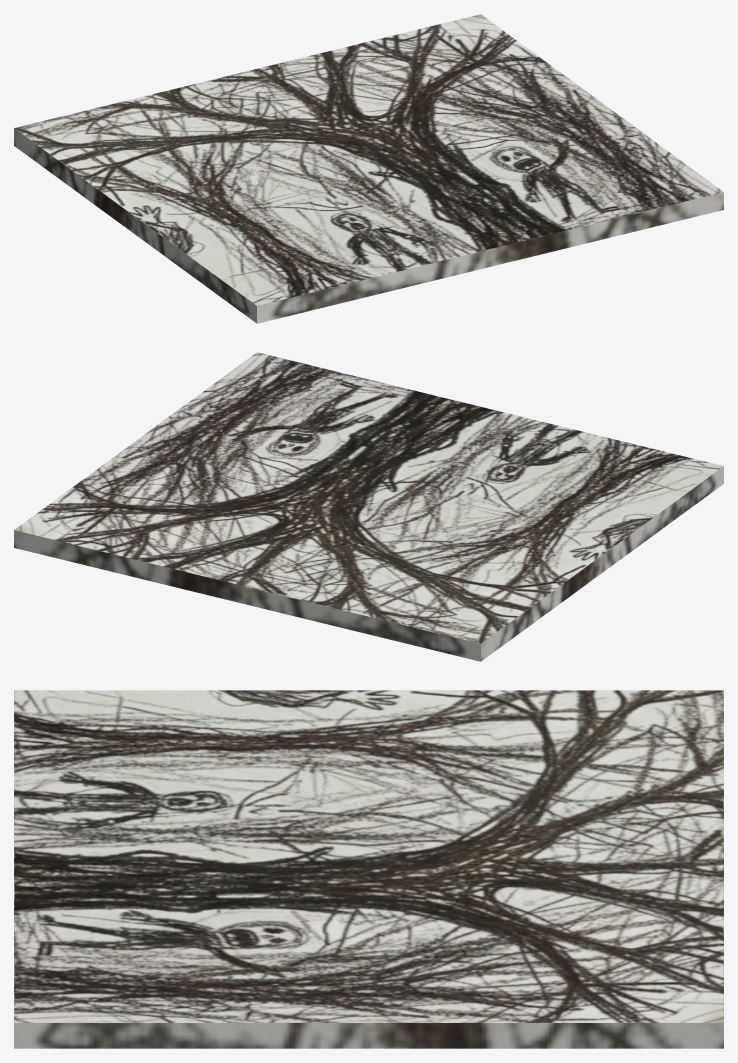
Rendered from dibujo_delpiso2.fbx.
3 views of the same model, one above another, from view 1: azimuth 30°, elevation 25°; view 2: azimuth 150°, elevation 25°; view 3: azimuth 270°, elevation 25° (orthographic). The views are drawn at different scales.
Visible parts, largest first — view 1: Cube; view 2: Cube; view 3: Cube.
Part boxes in pixels (bbox=[...]): Cube: bbox=[14, 14, 723, 323]; Cube: bbox=[14, 352, 723, 661]; Cube: bbox=[14, 690, 723, 1048].
Size of the model in its own units: 83.78 by 3.05 by 75.57.
1 material, 1 textured.
